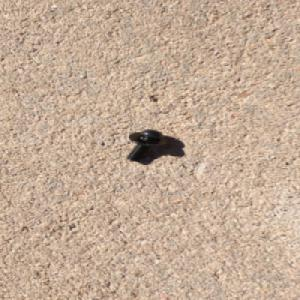BoltWasher: (121, 128, 169, 162)
